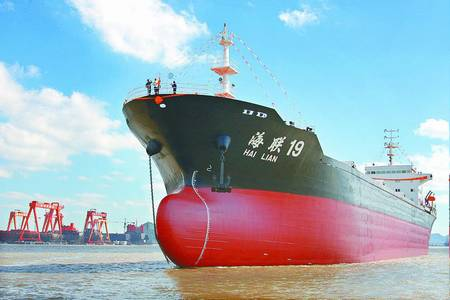Cargoship: (119, 18, 437, 267)
